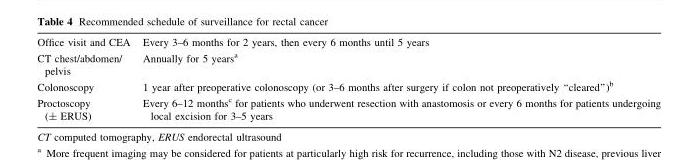table: (36, 37, 660, 120)
table column: (135, 37, 660, 120), (36, 37, 135, 120)
table row: (36, 49, 660, 78), (36, 94, 660, 120), (36, 78, 660, 94), (36, 37, 660, 49)
